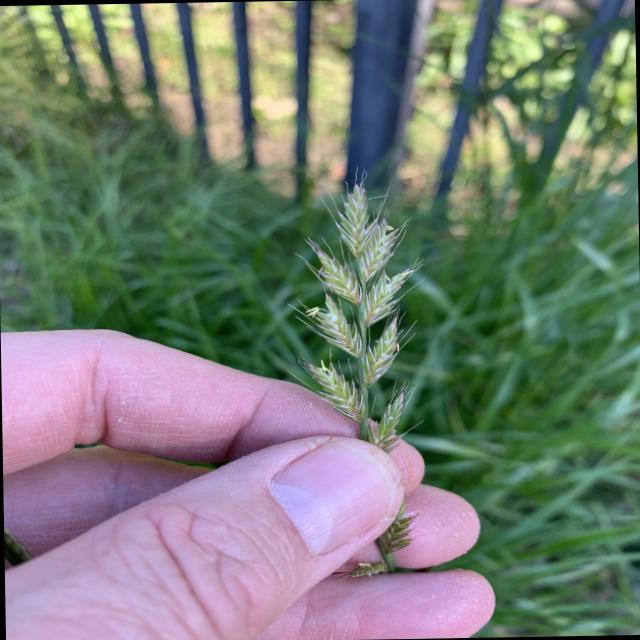Lolium: (281, 166, 434, 578)
